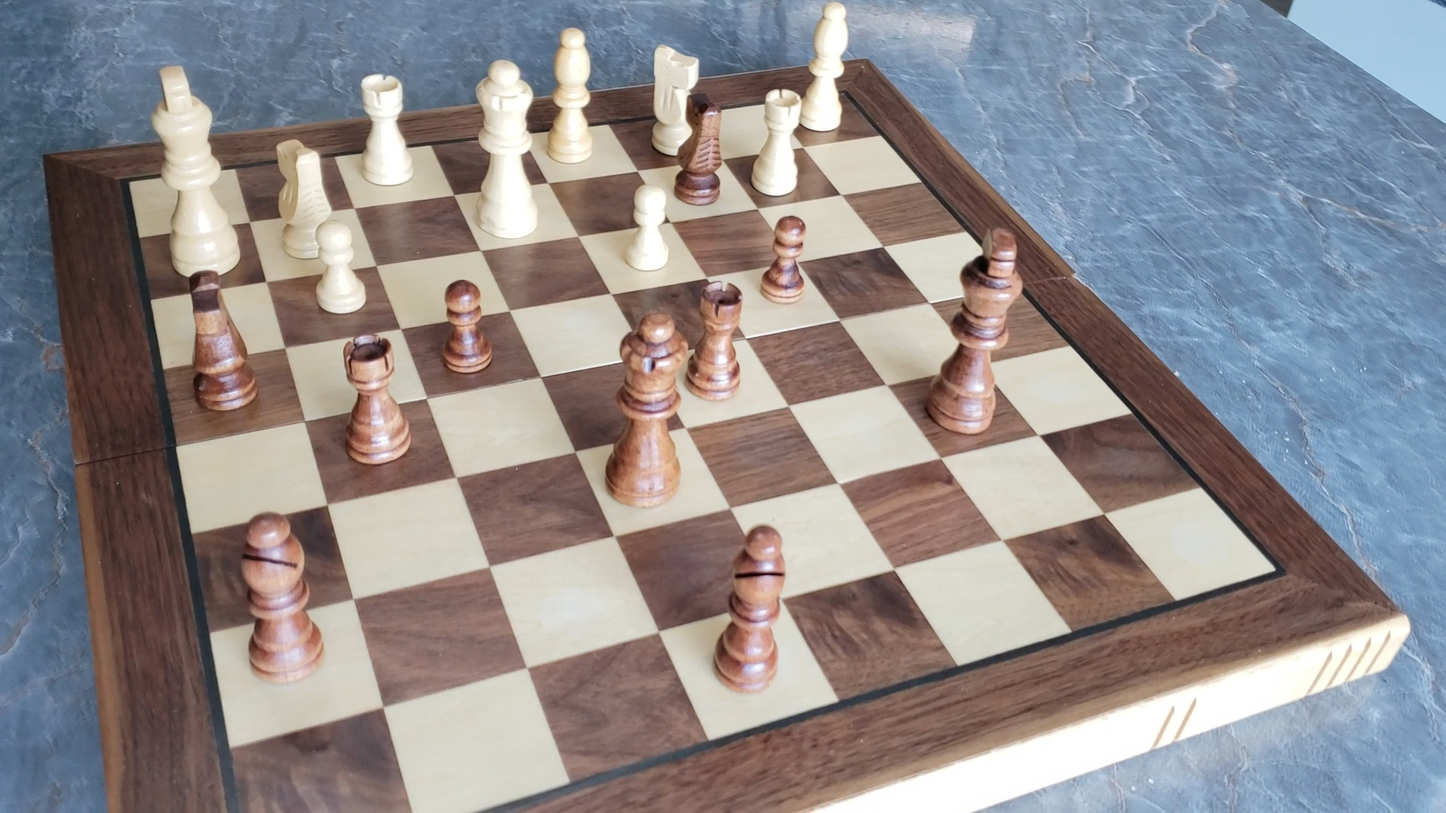black-bishop: (236, 508, 325, 685), (712, 522, 789, 694)
black-king: (927, 222, 1025, 434)
black-knight: (173, 264, 275, 424), (674, 88, 725, 206)
black-pawn: (439, 276, 494, 376), (759, 212, 810, 305)
black-queen: (603, 308, 688, 509)
black-rook: (340, 331, 411, 466), (689, 277, 745, 402)
white-bishop: (545, 22, 596, 167), (798, 0, 851, 134)
white-king: (147, 59, 242, 283)
white-knight: (270, 136, 337, 262), (647, 41, 703, 158)
white-pawn: (306, 218, 372, 319), (618, 174, 672, 283)
white-queen: (471, 56, 542, 243)
white-rook: (354, 68, 415, 190), (748, 85, 806, 201)
